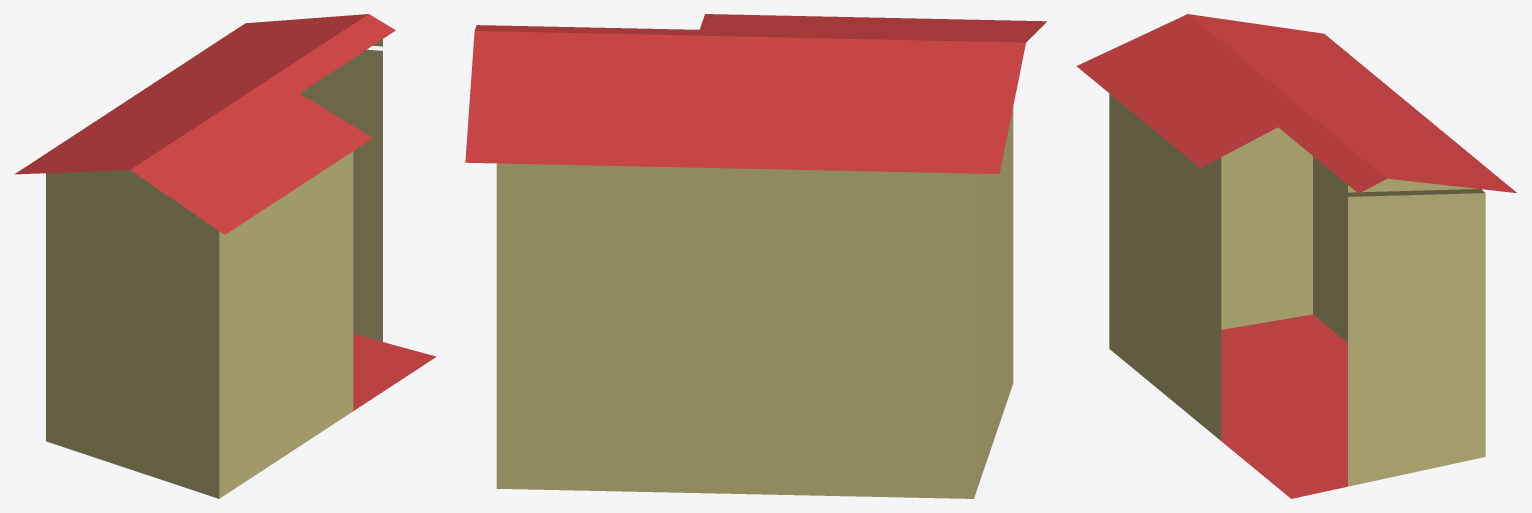
The picture shows the model from 3 angles, left to right: view 1: azimuth 30°, elevation 25°; view 2: azimuth 150°, elevation 25°; view 3: azimuth 270°, elevation 25°; orthographic projection. The views are drawn at different scales.
Size of the model in its own units: 9.84 by 9.3 by 7.23.
